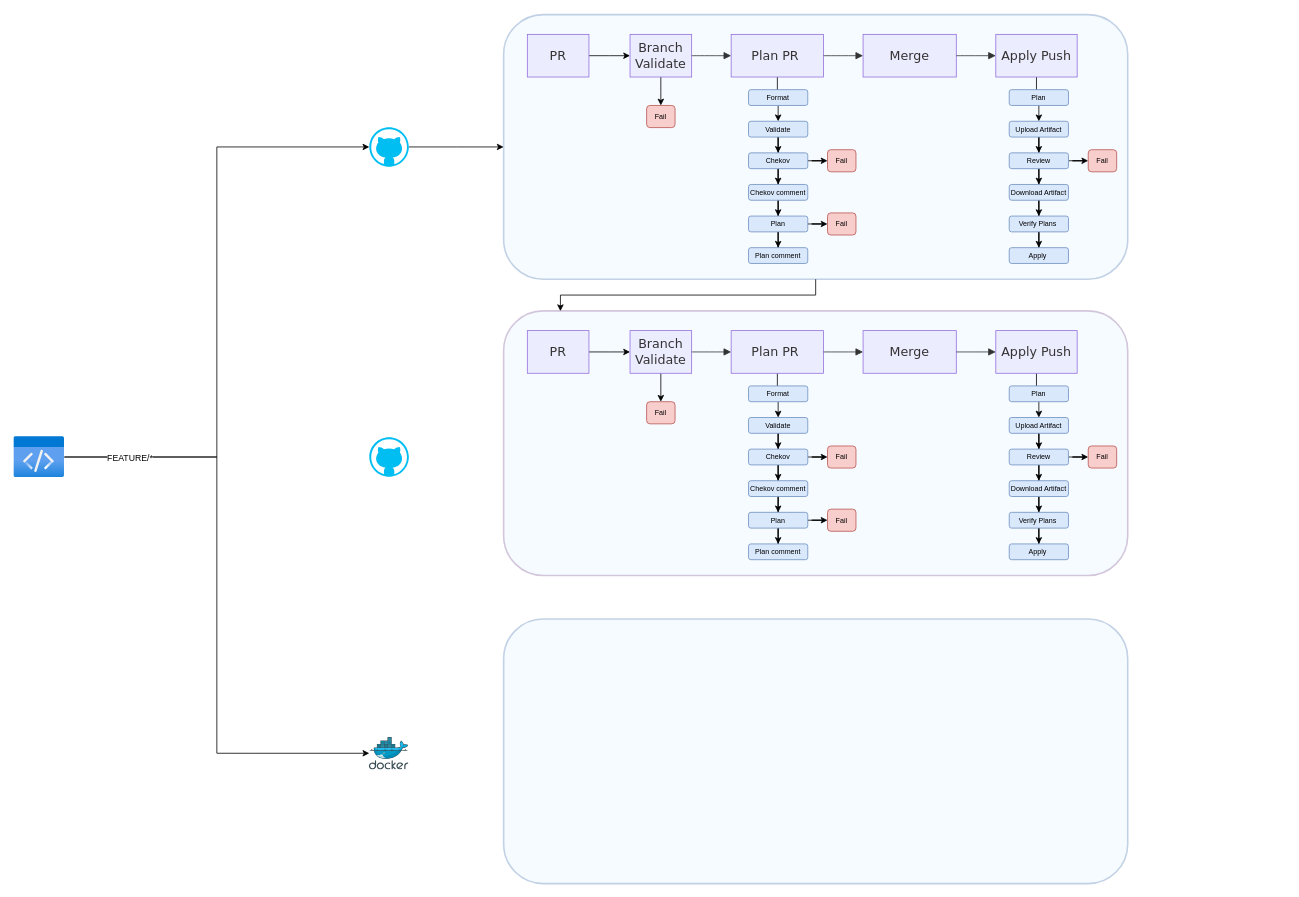
Image size: 1299x897. Some labels were removed from this diagram. The shapes that lost their labels are listed below. From the top down, each one's centre as x and y in pixels, then its label:
At point 388,146: "DEV".
At point 388,456: "PROD".
